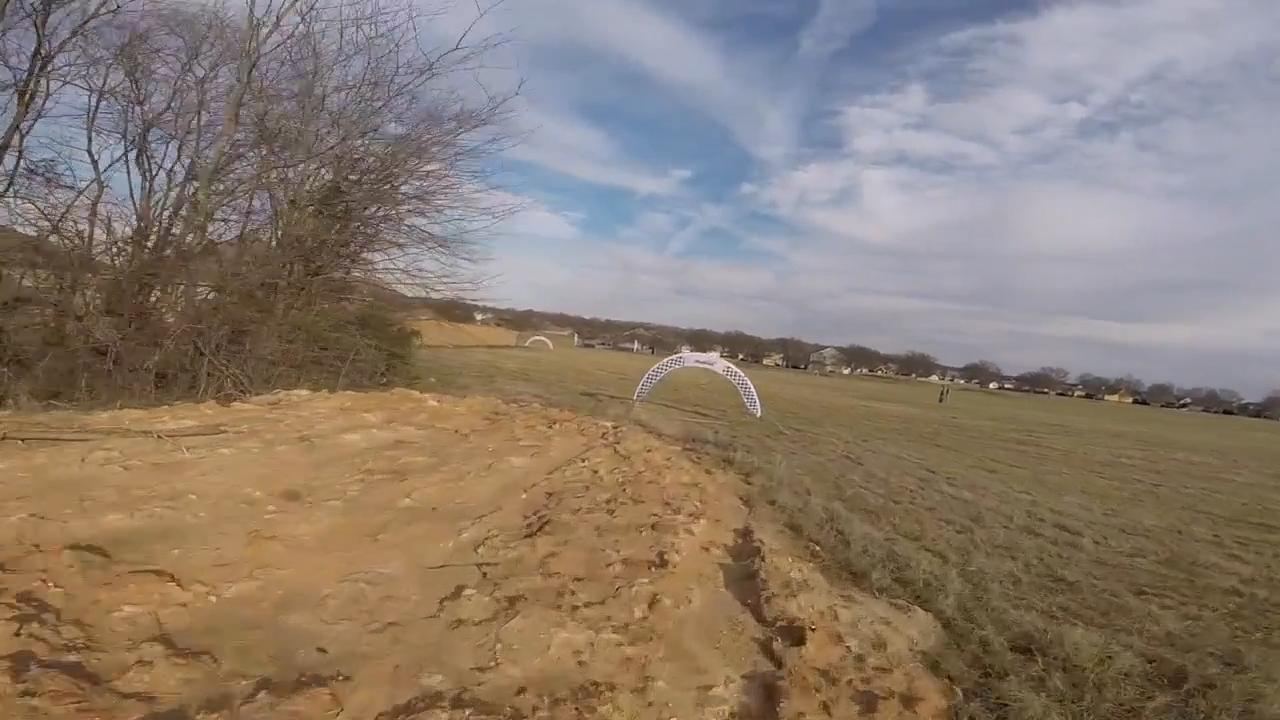gate: (632, 354, 760, 423)
